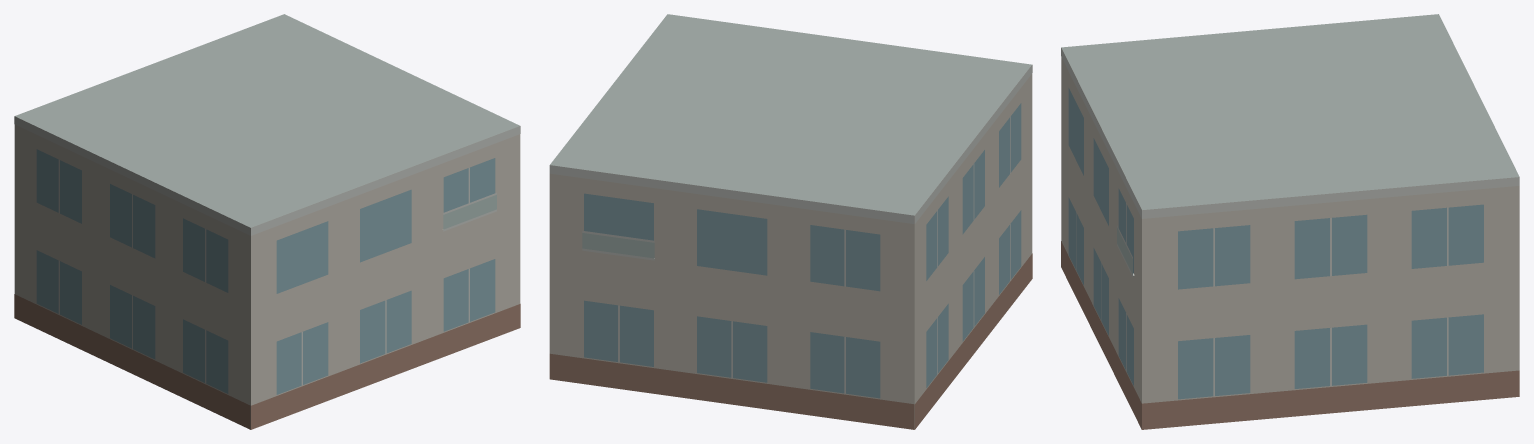
Rendered from survey-upis-32708951.glb.
3 views of the same model, side by side, from view 1: azimuth 30°, elevation 25°; view 2: azimuth 150°, elevation 25°; view 3: azimuth 270°, elevation 25° (orthographic). The views are drawn at different scales.
Parts seen in each view (by area): view 1: survey-upis-32708951.tmp; view 2: survey-upis-32708951.tmp; view 3: survey-upis-32708951.tmp.
Part boxes in pixels (x1=…): survey-upis-32708951.tmp: x1=14, y1=14, x2=520, y2=429; survey-upis-32708951.tmp: x1=549, y1=14, x2=1032, y2=429; survey-upis-32708951.tmp: x1=1061, y1=14, x2=1519, y2=429.
Size of the model in its own units: 11.69 by 6.1 by 11.55.
